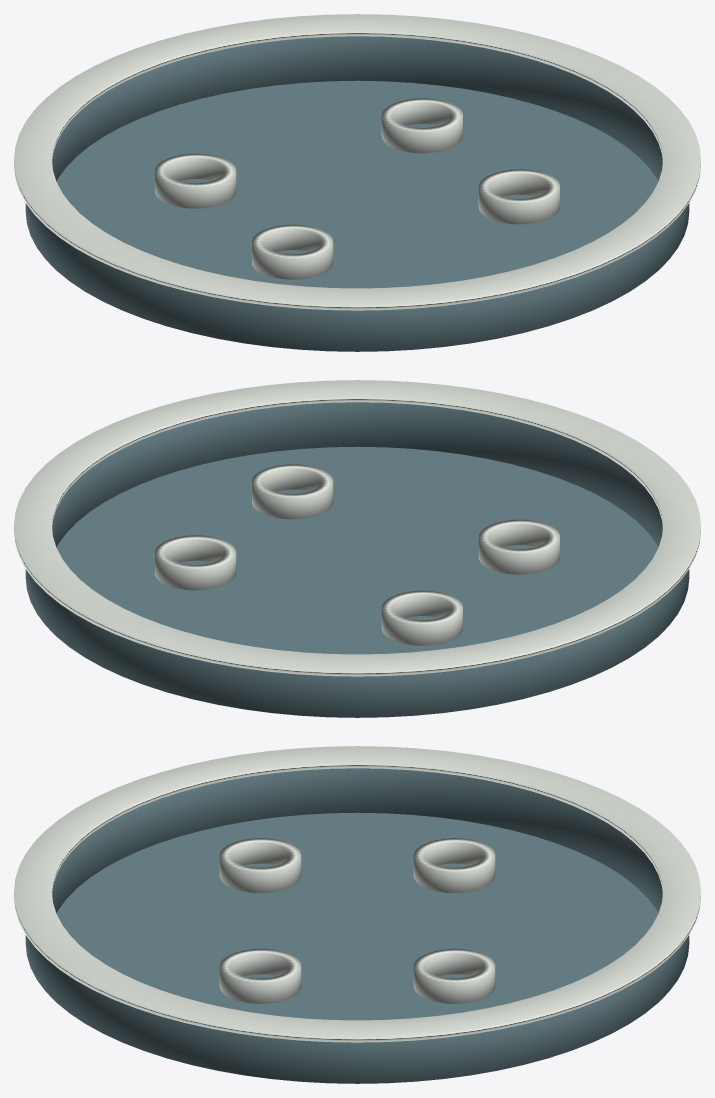
File: g01-main-basin.glb
The picture shows the model from 3 angles, top to bottom: view 1: azimuth 30°, elevation 25°; view 2: azimuth 150°, elevation 25°; view 3: azimuth 270°, elevation 25°; orthographic projection.
Visible parts, largest first — view 1: shell-material-6-0, shell-material-2-0; view 2: shell-material-6-0, shell-material-2-0; view 3: shell-material-6-0, shell-material-2-0.
Boxes of the visible parts, x1,y1,x2,y2 form: shell-material-6-0: (25,36,689,351); shell-material-2-0: (14,14,700,310); shell-material-6-0: (25,402,689,717); shell-material-2-0: (14,380,700,676); shell-material-6-0: (25,768,689,1083); shell-material-2-0: (14,746,700,1042).
Size of the model in its own units: 14.16 by 1.2 by 14.16.
